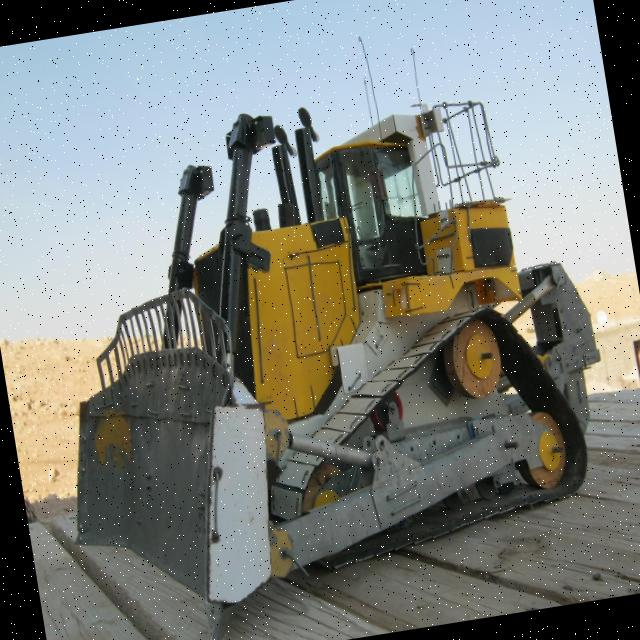Bulldozer: (3, 32, 640, 636)
